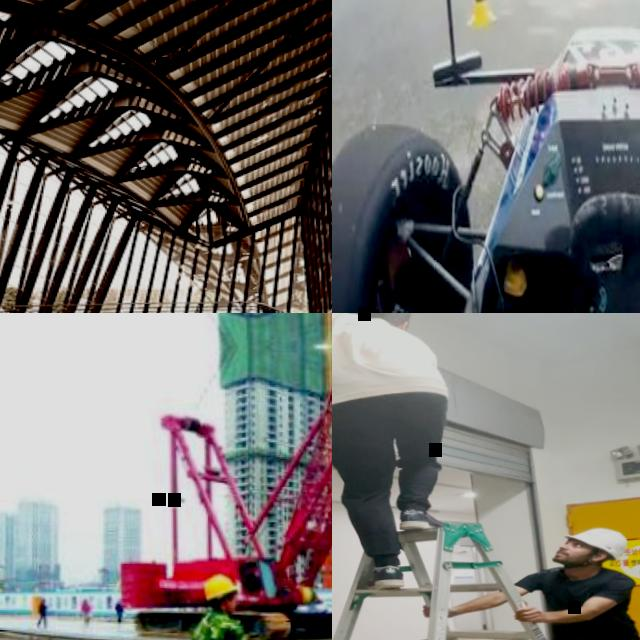Hardhat: (564, 527, 624, 560), (204, 572, 236, 599)
NO-Hardhat: (349, 313, 410, 322)
NO-Mask: (551, 550, 584, 566), (221, 598, 238, 611)
NO-Safety Vest: (332, 313, 437, 406), (536, 568, 629, 640), (191, 613, 244, 640)
Person: (332, 313, 454, 593), (420, 523, 640, 640), (190, 569, 272, 640), (34, 597, 49, 629), (80, 598, 91, 625), (113, 599, 124, 623)
Safety Cone: (463, 0, 497, 35)
vehicle: (332, 0, 640, 313)
